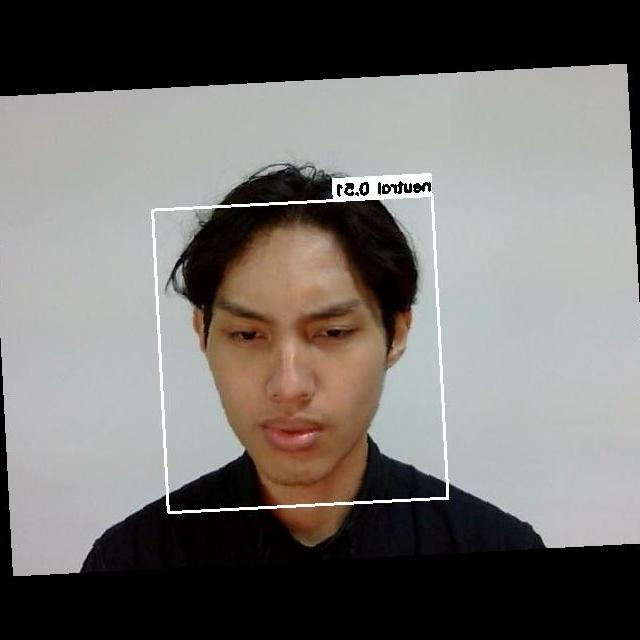Angry: (202, 282, 402, 462)
